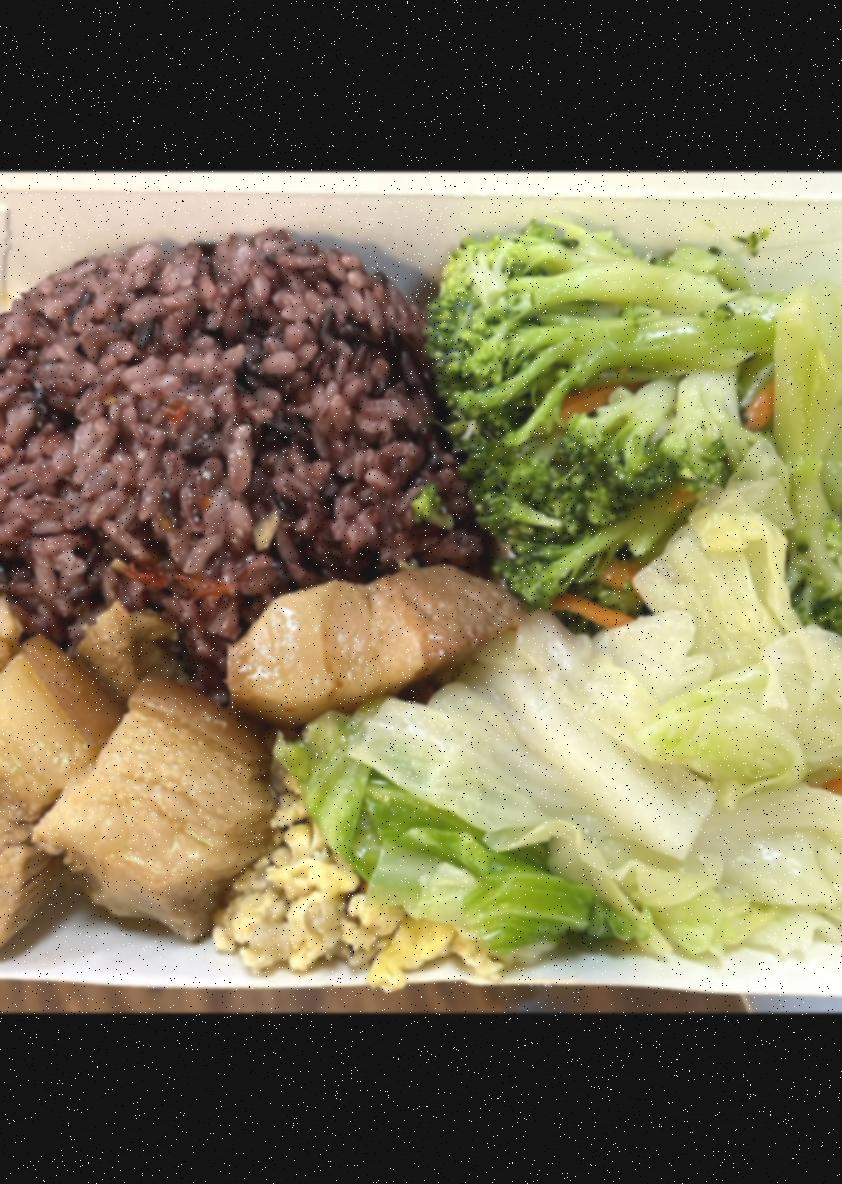big grilled chicken leg: (0, 171, 842, 1013)
braised fish: (0, 235, 470, 651)
braised fish fillet: (257, 543, 842, 957), (424, 214, 842, 651), (212, 779, 490, 978)
braised pork: (0, 564, 519, 951)
